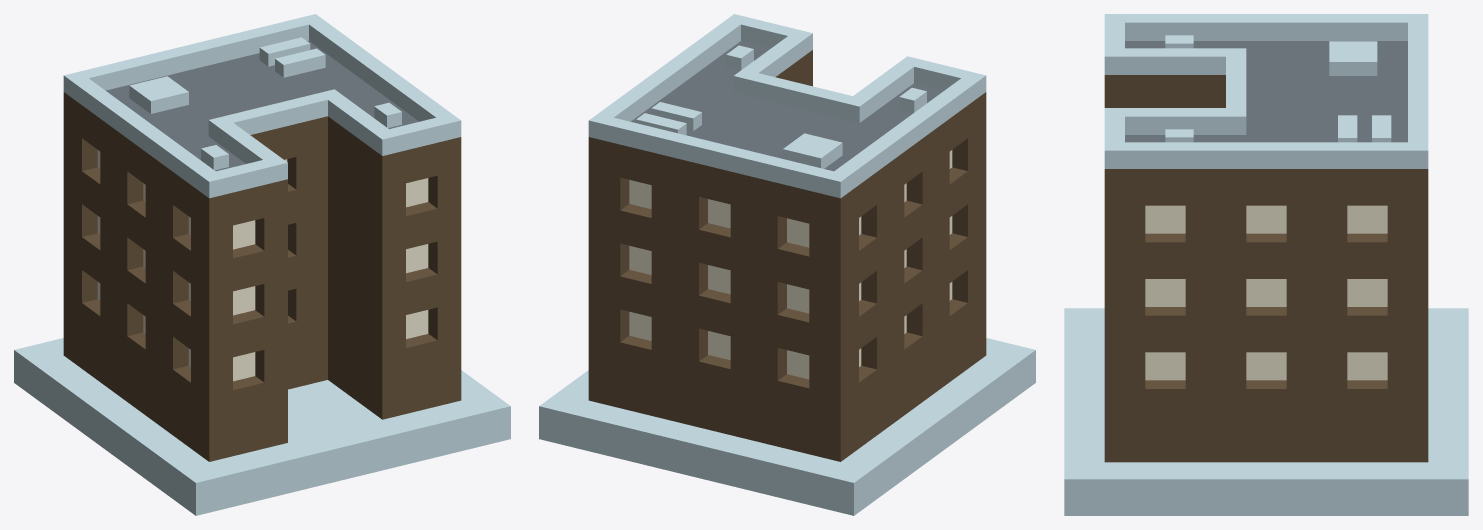
The model's file is Building_5_Base_Extra (Brown).obj.
3 renders of one model, left to right at view 1: azimuth 30°, elevation 25°; view 2: azimuth 150°, elevation 25°; view 3: azimuth 270°, elevation 25°, orthographic. The views are drawn at different scales.
Visible parts, largest first — view 1: Building_5_Base_Extra_(Brown); view 2: Building_5_Base_Extra_(Brown); view 3: Building_5_Base_Extra_(Brown).
Part boxes in pixels (x1=…): Building_5_Base_Extra_(Brown): x1=14, y1=14, x2=510, y2=515; Building_5_Base_Extra_(Brown): x1=539, y1=14, x2=1035, y2=515; Building_5_Base_Extra_(Brown): x1=1064, y1=14, x2=1468, y2=515.
Size of the model in its own units: 2 by 1.9 by 2.
